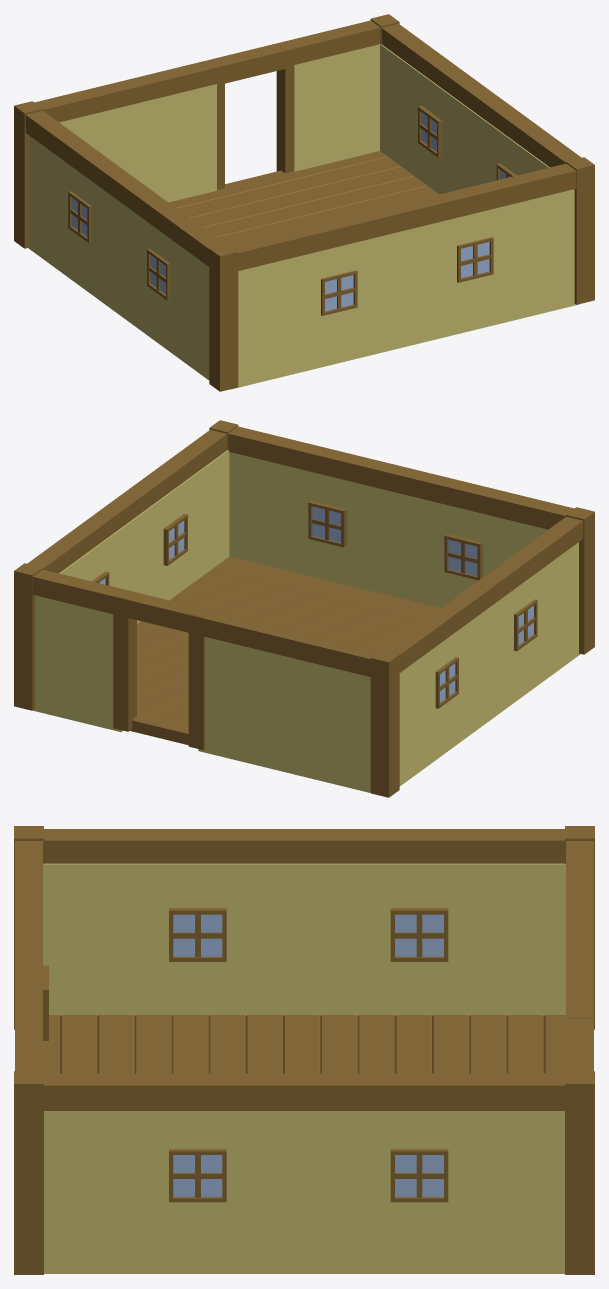
The model's file is House4.fbx.
3 views of the same model, one above another, from view 1: azimuth 30°, elevation 25°; view 2: azimuth 150°, elevation 25°; view 3: azimuth 270°, elevation 25° (orthographic). The views are drawn at different scales.
Parts seen in each view (by area): view 1: Cube.019, Cube.014, Cube, Cube.018, Cube.022, Cube.008, Cube.021, Cube.007, Cube.009, Cube.010, Cube.003, Cube.004 (+8 smaller); view 2: Cube.019, Cube.022, Cube.014, Cube.018, Cube.016, Cube.008, Cube.007, Cube.021, Cube, Cube.009, Cube.010, Cube.001 (+9 smaller); view 3: Cube.018, Cube.014, Cube, Cube.010, Cube.009, Cube.016, Cube.008, Cube.002, Cube.004, Cube.007, Cube.023, Cube.015 (+4 smaller).
Part boxes in pixels (x1,y1,x2,y2): Cube.019: (230,189,579,389); Cube.014: (28,136,209,380); Cube: (168,151,439,245); Cube.018: (380,44,549,194); Cube.022: (59,84,216,202); Cube.008: (230,163,576,270); Cube.021: (293,44,379,171); Cube.007: (34,20,380,122); Cube.009: (25,110,225,266); Cube.010: (381,23,581,167); Cube.003: (209,244,238,391); Cube.004: (566,157,594,304); Cube.019: (229,452,547,607); Cube.022: (198,637,370,792); Cube.014: (399,542,580,786); Cube.018: (59,450,229,623); Cube.016: (183,556,440,642); Cube.008: (228,426,574,529); Cube.007: (32,569,378,676); Cube.021: (33,595,122,731); Cube: (130,590,393,745); Cube.009: (383,516,583,672); Cube.010: (27,429,227,573); Cube.001: (370,650,399,797); Cube.018: (44,1111,564,1273); Cube.014: (43,863,565,1015); Cube: (171,1015,565,1073); Cube.010: (44,1073,564,1110); Cube.009: (44,829,564,863); Cube.016: (43,1015,171,1073); Cube.008: (15,841,42,1071); Cube.002: (565,1071,594,1274); Cube.004: (14,1071,43,1274); Cube.007: (566,841,593,1071); Cube.023: (390,908,448,961); Cube.015: (390,1149,448,1202).
Size of the model in its own units: 426 by 149 by 405.
